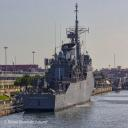Fragata: (21, 1, 98, 116)
